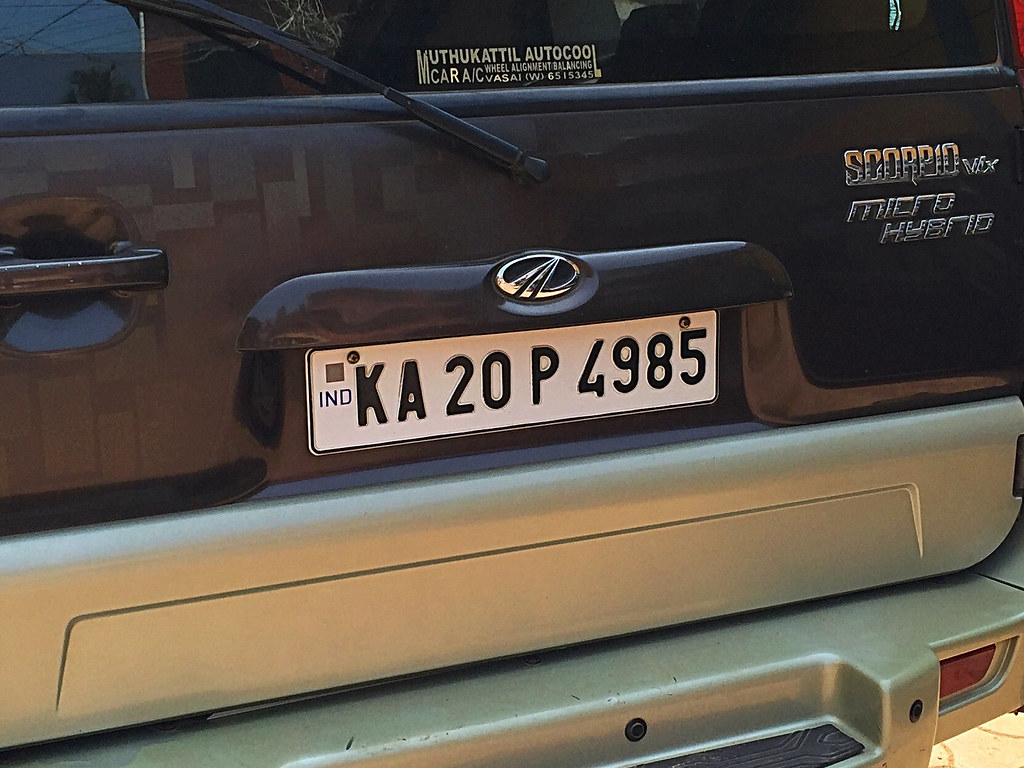plate: (275, 300, 736, 462)
